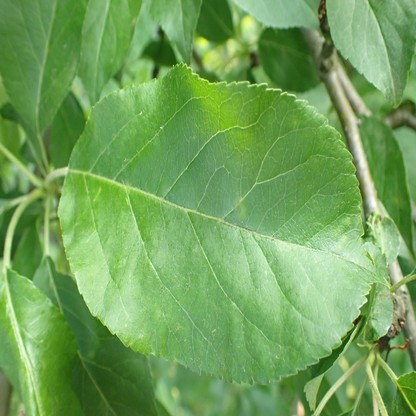scab: (233, 197, 248, 219)
